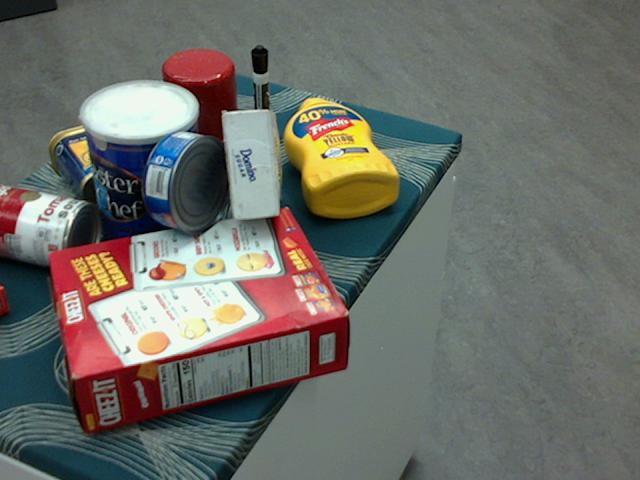cracker_box: (50, 207, 348, 431)
gelatin_box: (0, 283, 11, 316)
large_marker: (251, 44, 270, 149)
master_chef_can: (80, 82, 204, 265)
mug: (160, 50, 242, 148)
mustard_bottle: (283, 96, 399, 217)
potted_meat_can: (48, 115, 172, 211)
sugar_box: (226, 109, 279, 220)
tomato_soup_can: (0, 181, 100, 271)
tuna_fish_can: (141, 130, 232, 232)
